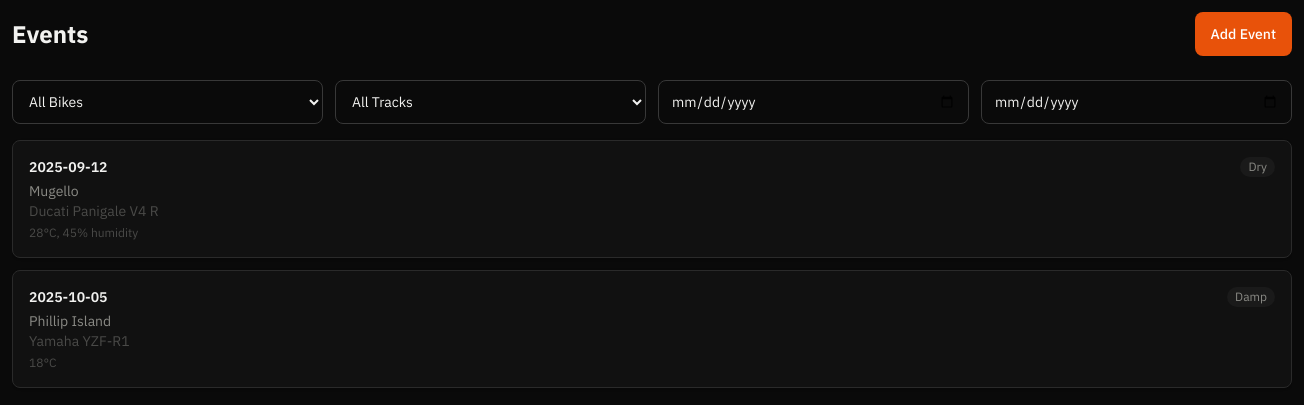
Events screen › filters events by track
The width and height of the screenshot is (1304, 405).
Check: the number of links with test id "event-card" is 2, box 12,140 -> 1292,258; 12,270 -> 1292,388
Select "Phillip Island" in the dropdown with test id "filter-track": (490,102) 335,80 -> 646,124
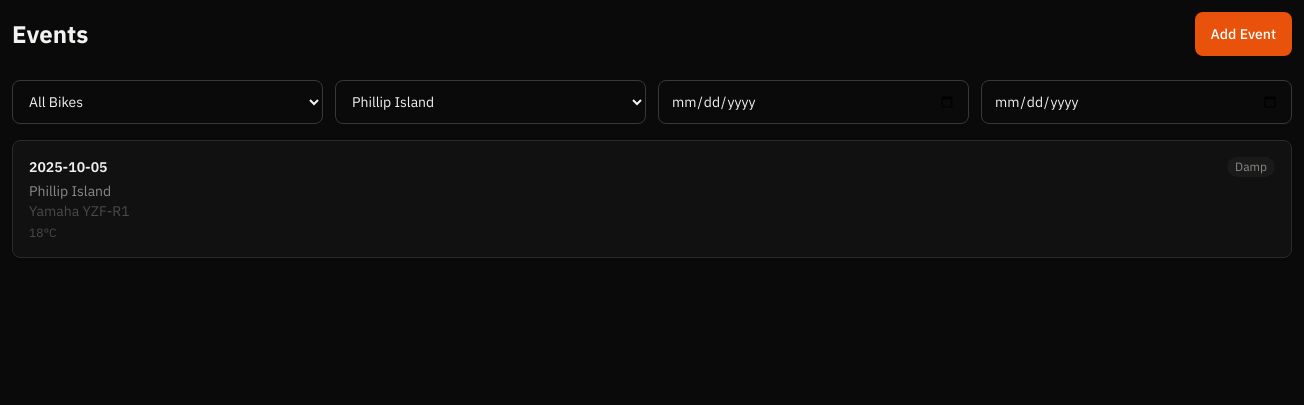
Check: the text "2025-10-05" is shown, box 29,157 -> 108,177
Check: the number of links with test id "event-card" is 1, box 12,140 -> 1292,258
